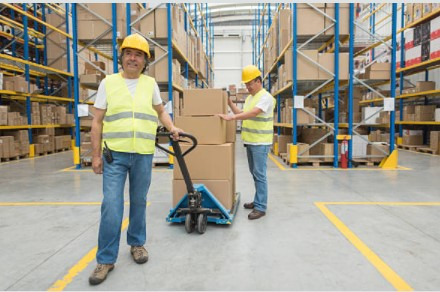stock: (183, 89, 228, 115)
worker: (101, 33, 156, 154), (242, 66, 273, 145)
